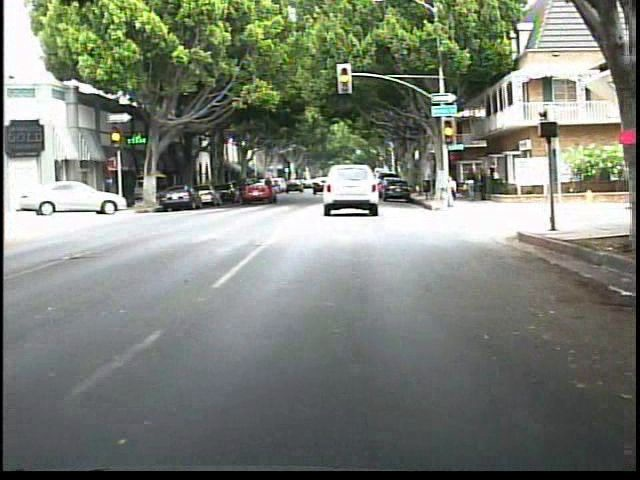person: (440, 173, 461, 211), (464, 170, 479, 205), (486, 160, 500, 196), (477, 167, 490, 204)
